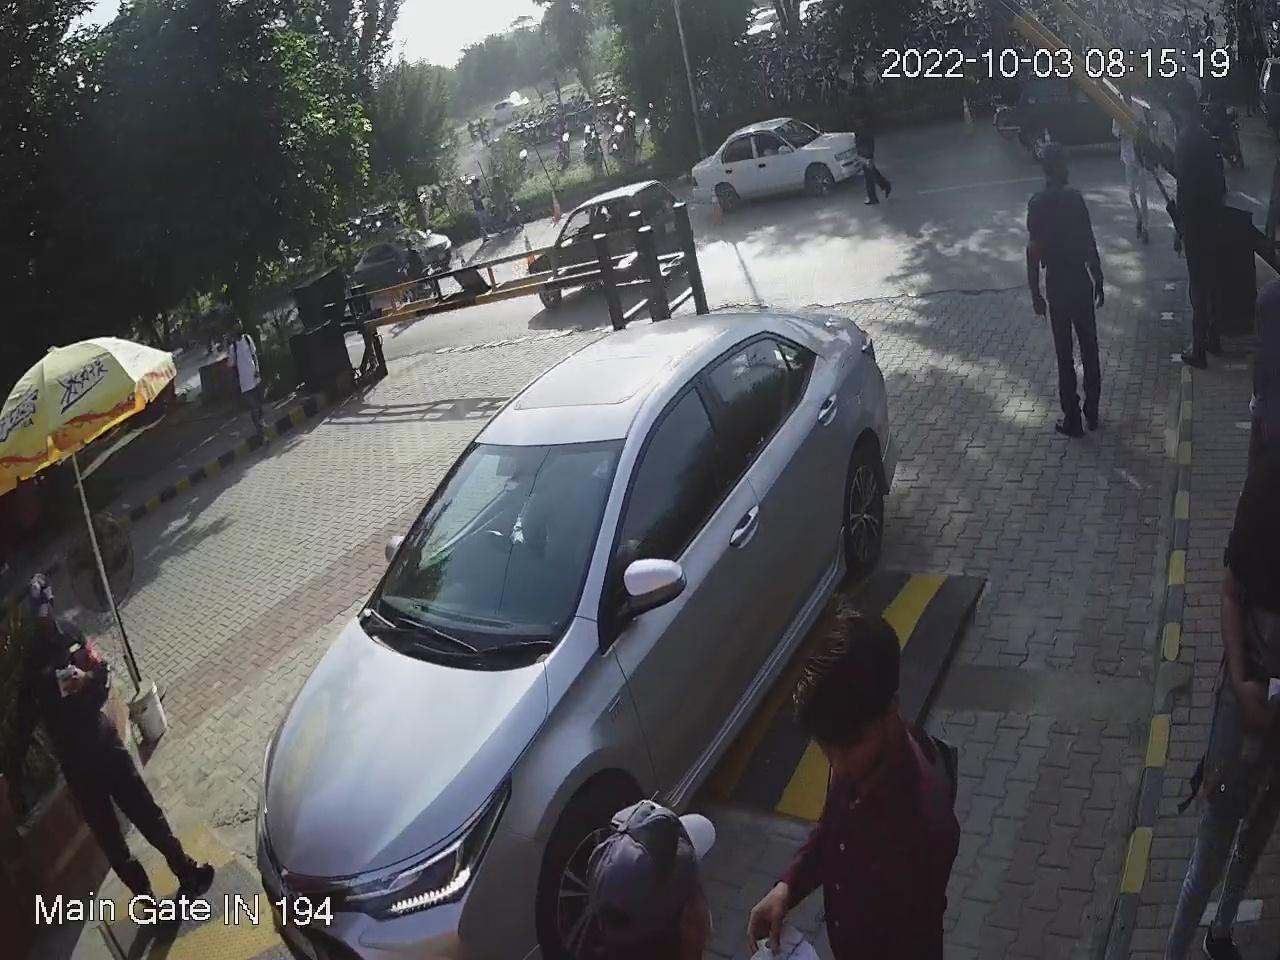windshield: (368, 425, 623, 645)
